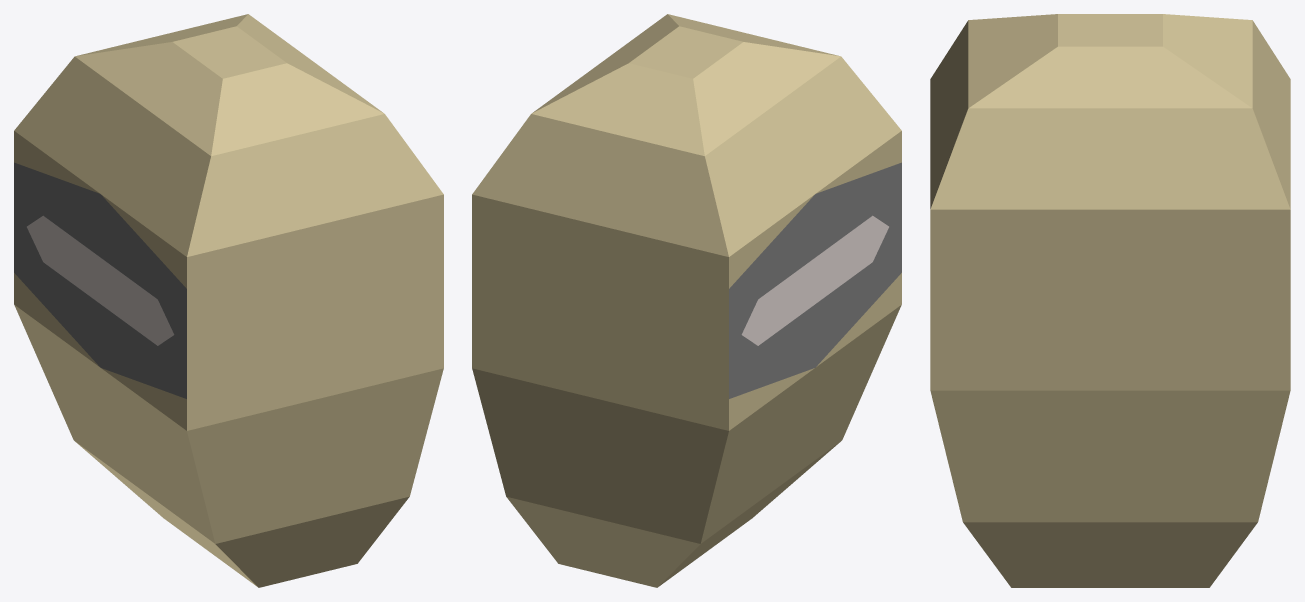
File: Bandit5Head.fbx
3 renders of one model, left to right at view 1: azimuth 30°, elevation 25°; view 2: azimuth 150°, elevation 25°; view 3: azimuth 270°, elevation 25°, orthographic. The views are drawn at different scales.
Parts seen in each view (by area): view 1: Bandit5Head; view 2: Bandit5Head; view 3: Bandit5Head.
Part boxes in pixels (x1,y1,x2,y2): Bandit5Head: [14, 14, 443, 587]; Bandit5Head: [472, 14, 901, 587]; Bandit5Head: [930, 14, 1290, 587].
Size of the model in its own units: 0.165 by 0.3043 by 0.1922.
